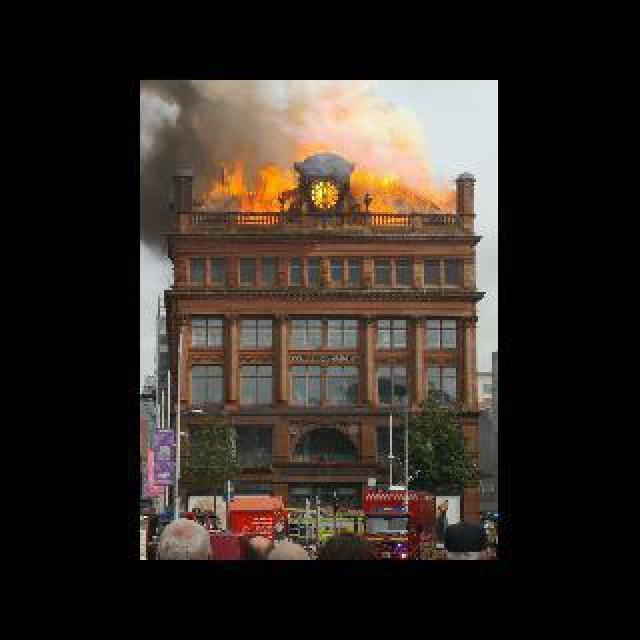Fire: (202, 146, 450, 228)
Smoke: (144, 80, 206, 262)
